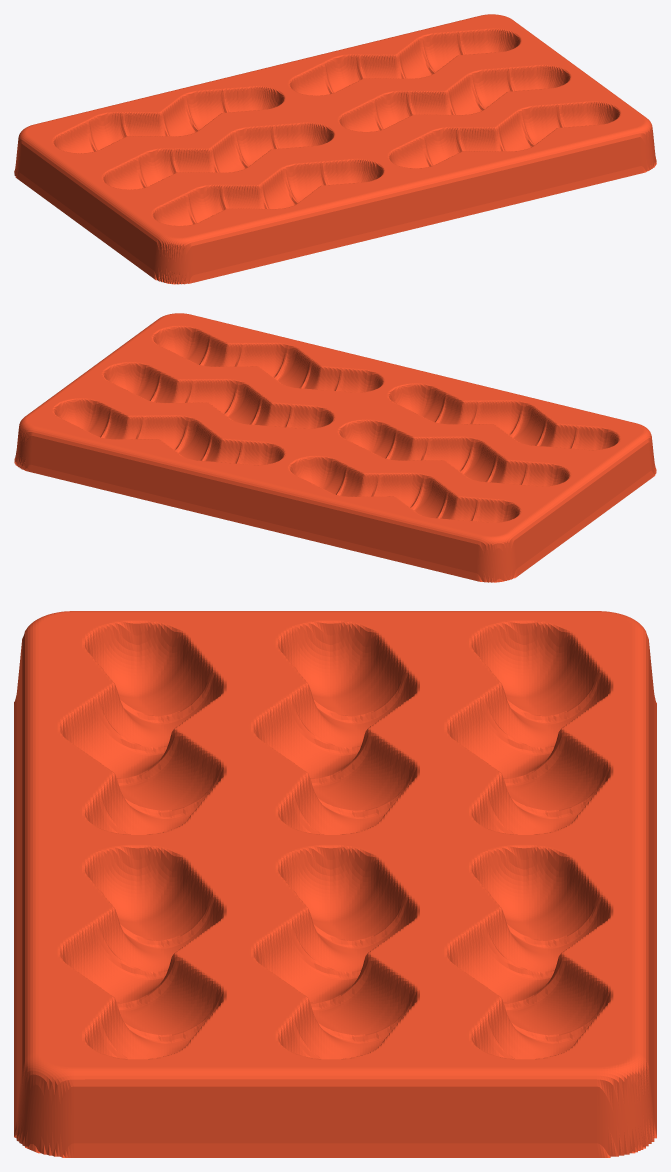
The model's file is mold.glb.
The picture shows the model from 3 angles, top to bottom: view 1: azimuth 30°, elevation 25°; view 2: azimuth 150°, elevation 25°; view 3: azimuth 270°, elevation 25°; orthographic projection. The views are drawn at different scales.
Parts seen in each view (by area): view 1: geometry_0; view 2: geometry_0; view 3: geometry_0.
Part boxes in pixels (x1,y1,x2,y2): geometry_0: [14, 14, 656, 284]; geometry_0: [14, 313, 656, 582]; geometry_0: [14, 611, 656, 1157].
Bounding box in the file's own units: 0.1716 × 0.0135 × 0.0981.
